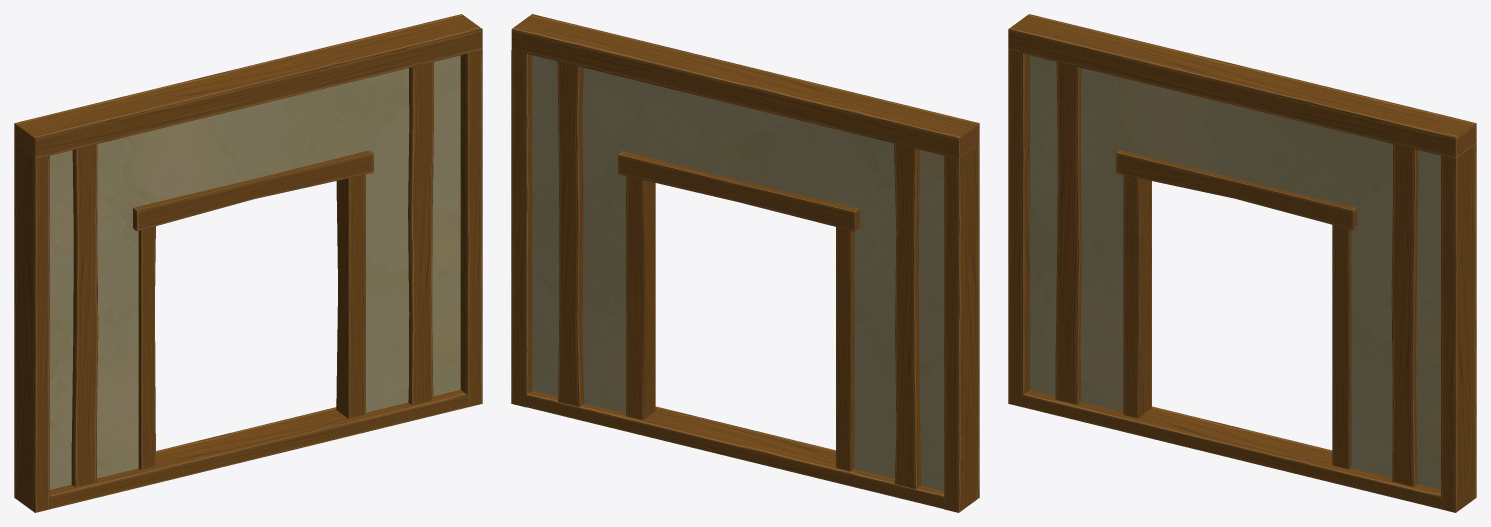
The model's file is SM_House_Wall_5x4_Door_C_02.fbx.
The picture shows the model from 3 angles, left to right: view 1: azimuth 30°, elevation 25°; view 2: azimuth 150°, elevation 25°; view 3: azimuth 330°, elevation 25°; orthographic projection.
Visible parts, largest first — view 1: SM_House_Wall_5x4_Door_C_02; view 2: SM_House_Wall_5x4_Door_C_02; view 3: SM_House_Wall_5x4_Door_C_02.
Boxes of the visible parts, left/top/right/bottom form: SM_House_Wall_5x4_Door_C_02: left=14, top=14, right=482, bottom=512; SM_House_Wall_5x4_Door_C_02: left=511, top=14, right=979, bottom=512; SM_House_Wall_5x4_Door_C_02: left=1008, top=14, right=1476, bottom=512.
Size of the model in its own units: 5 by 4 by 0.4024.
